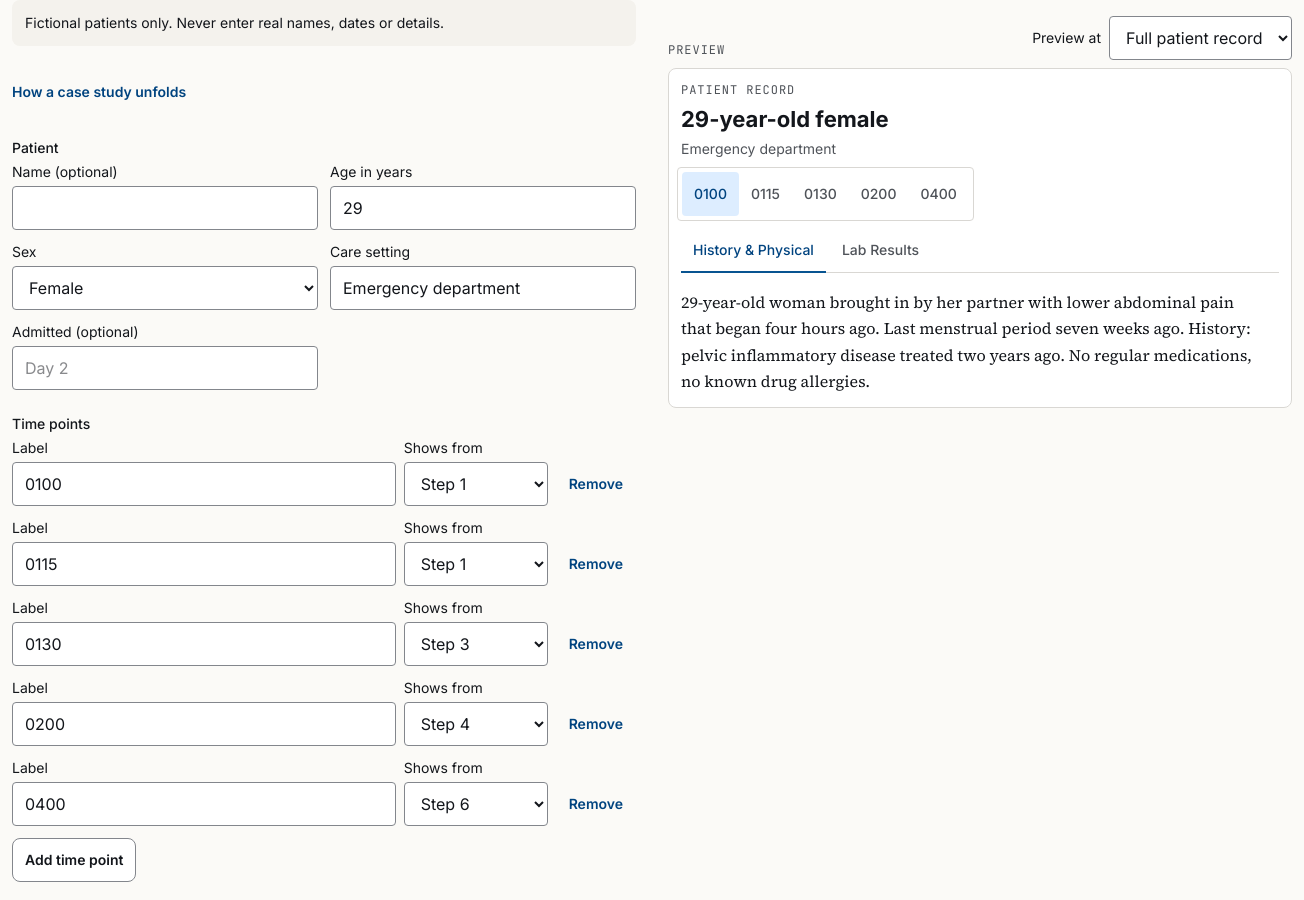
Test: step controls in the case study's patient record editor (#336) › previews the patient record at a step as a student at that step sees it
The image size is (1304, 900).
expect the radio button labelled "0400" is shown: met, box [908,172,969,216]
Select "Step 2" in the dropdown labelled "Preview at": (1200, 38) [1109,16,1292,60]
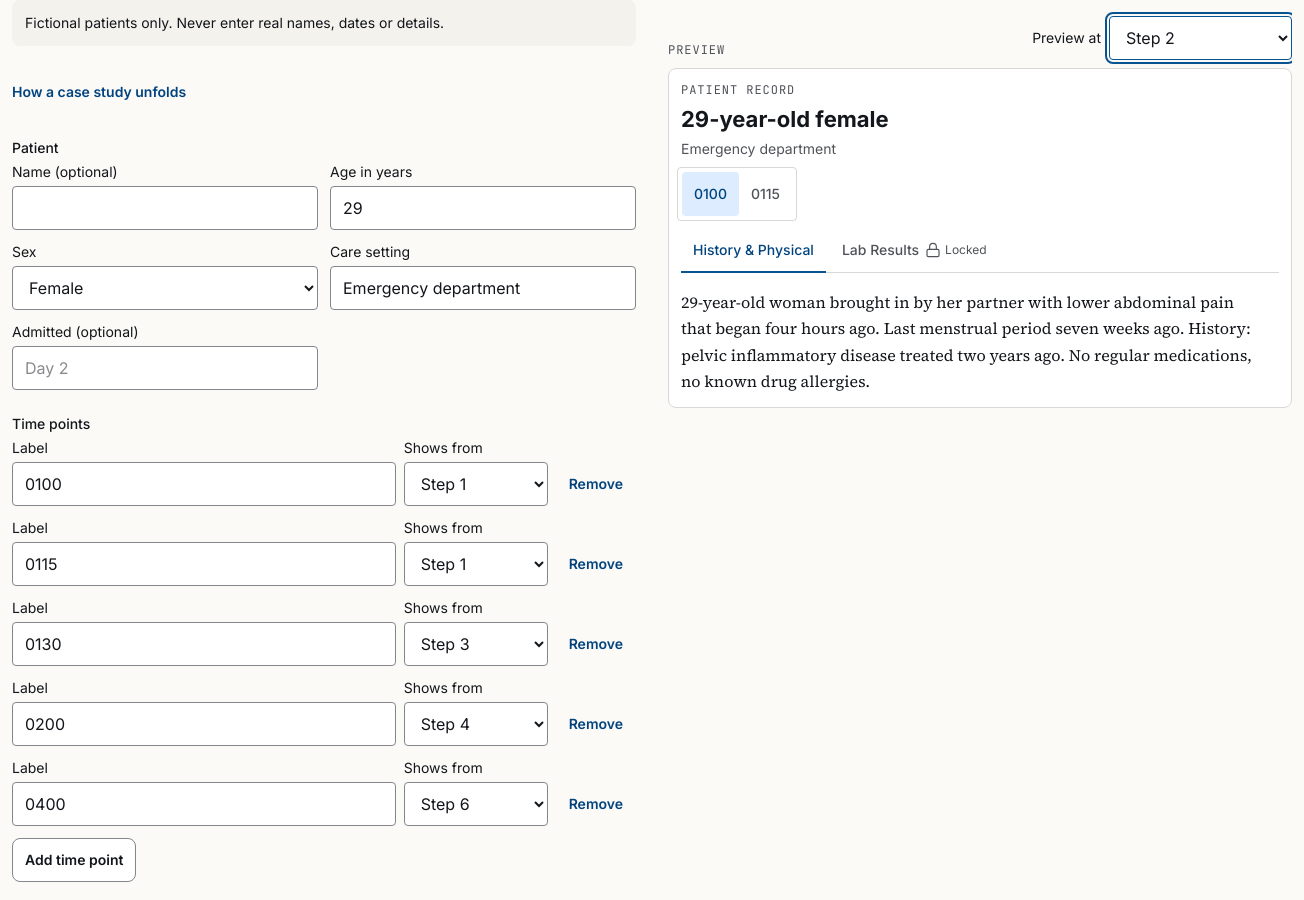
expect the tab "Lab Results Locked" is shown: met, box [830,229,999,273]
Select "Step 3" in the dropdown labelled "Preview at": (1200, 38) [1109,16,1292,60]
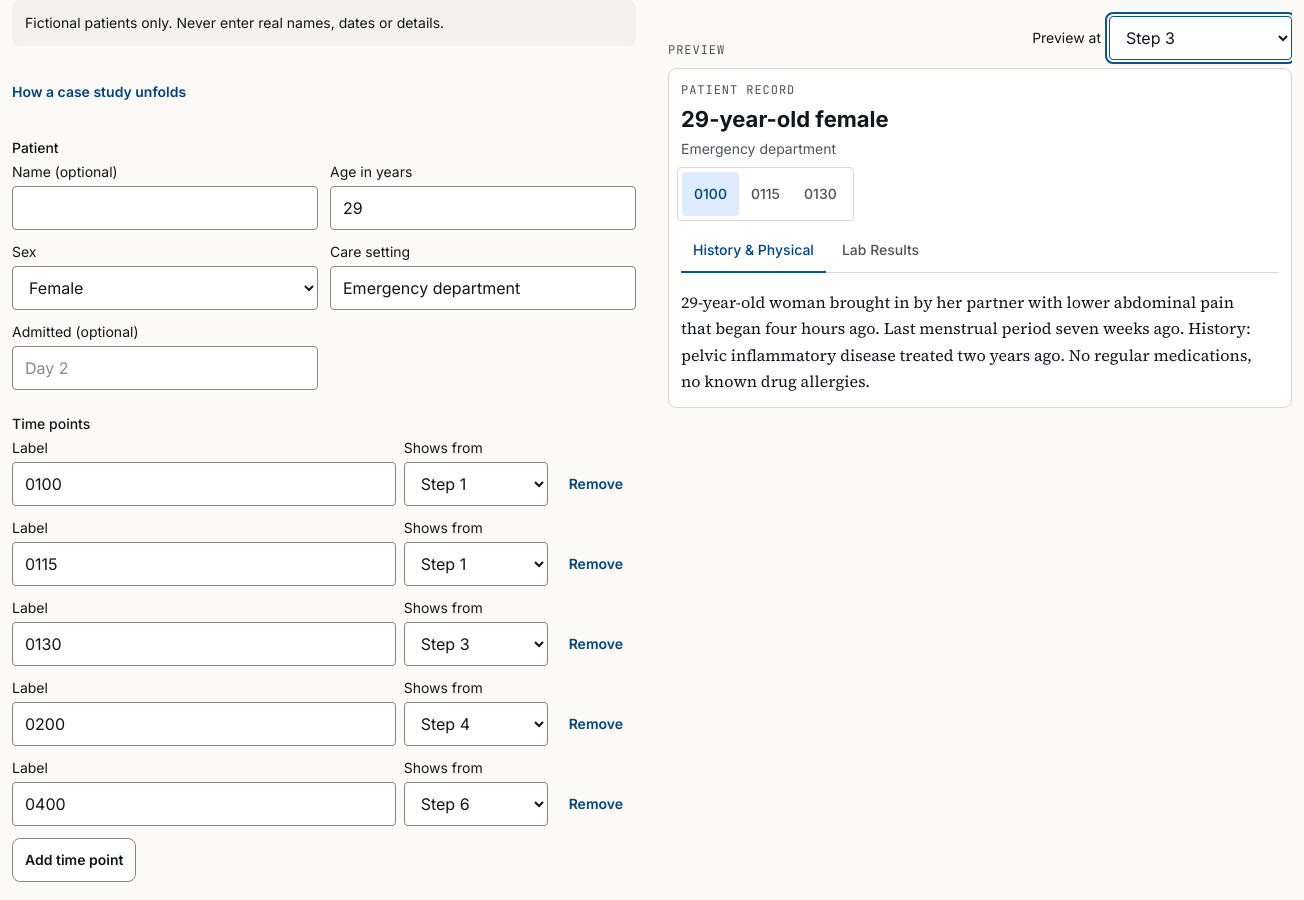
expect the radio button labelled "0130" is shown: met, box [792,172,849,216]
